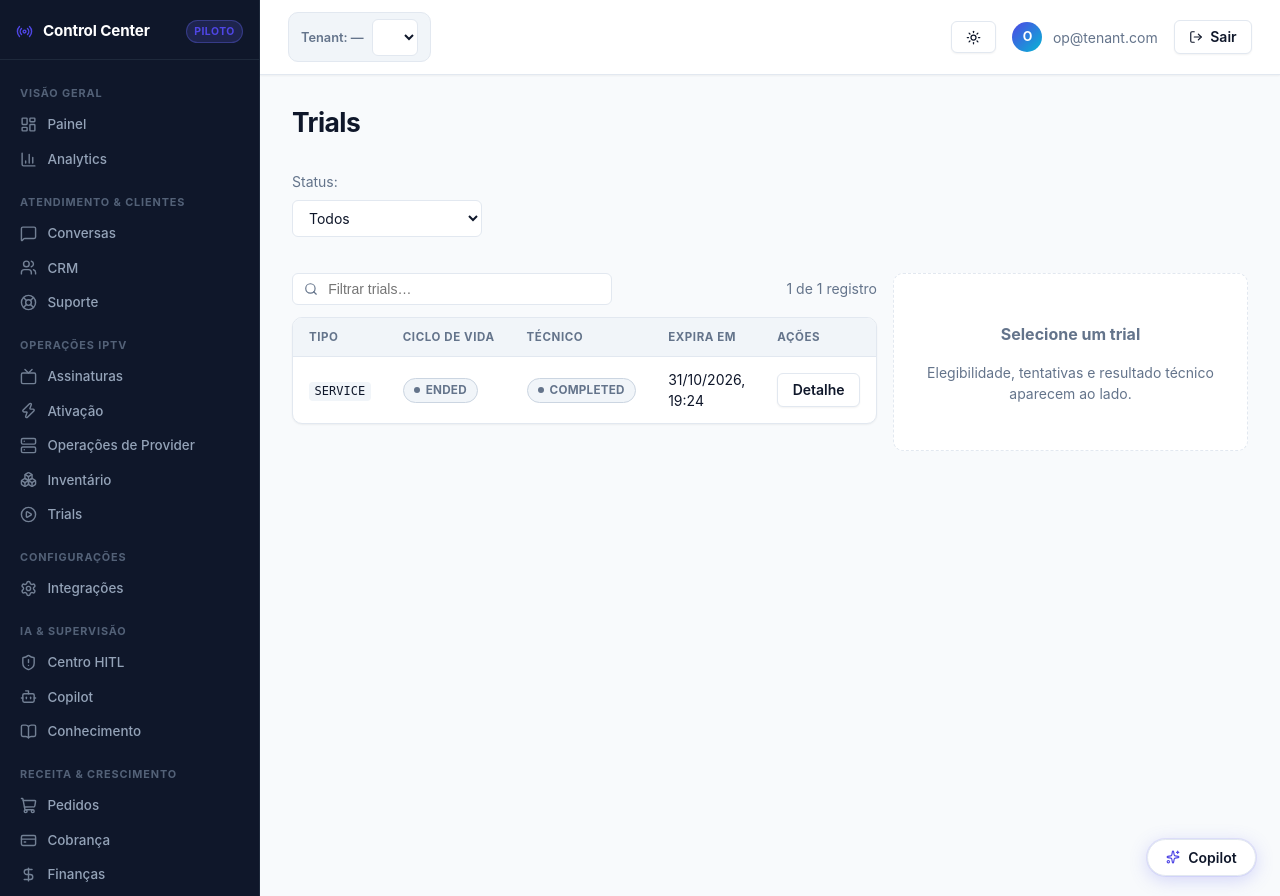
Test: TrialsPage › sem permissão trial.write, esconde botão 'Novo trial' e 'Solicitar retrial'
Check: the heading "Trials" is shown, box [292, 106, 360, 138]
Click the button "Detalhe": (819, 390) [777, 373, 860, 407]
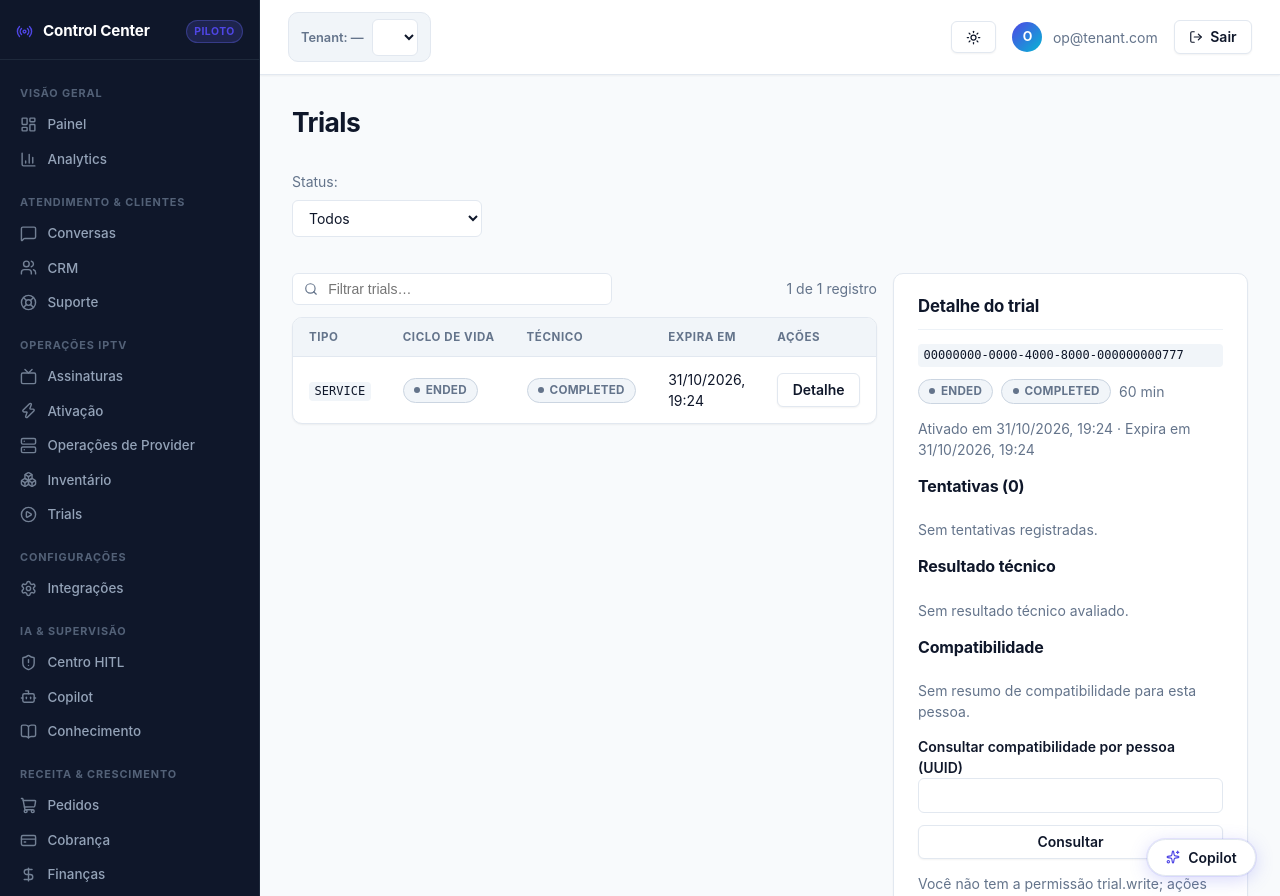
Check: the heading "Detalhe do trial" is shown, box [918, 294, 1223, 330]
